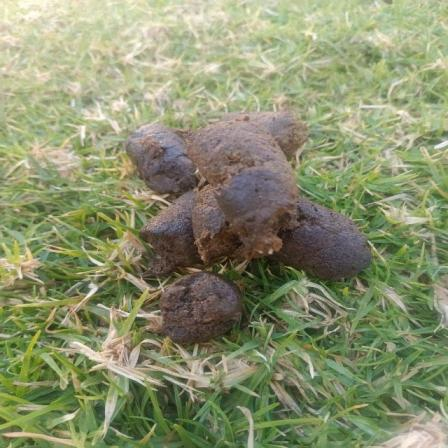dog-poop: (126, 114, 330, 324)
